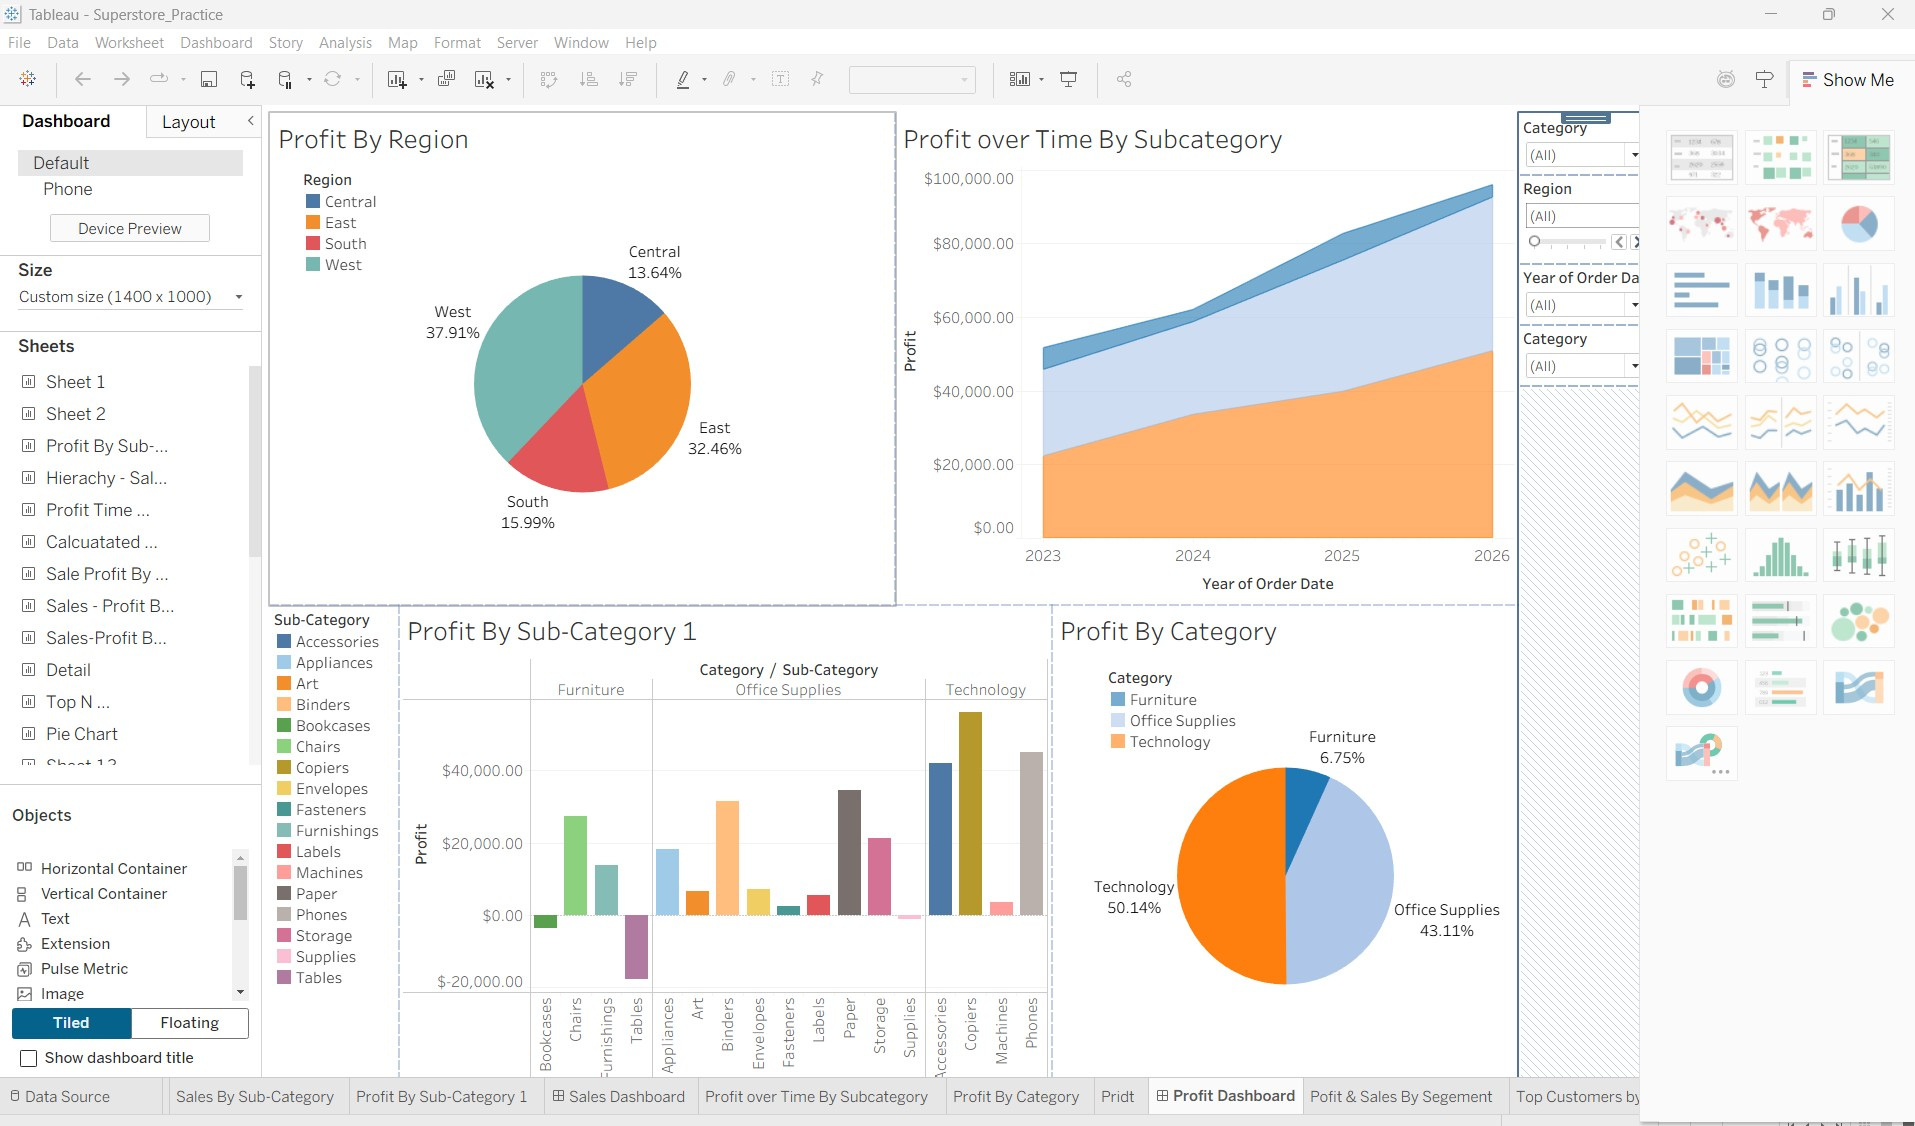

What the dashboard file says about the page in this screenshot:
{"tool":"tableau","page":{"name":"Profit Dashboard","canvas":[1400,1000],"ordinal":3},"visuals":[{"type":"worksheet","title":"Profit By Region","mark":"Pie","box":[8,8,624.5,492]},{"type":"worksheet","title":"Profit over Time By Subcategory","mark":"Area","rows":["Profit"],"cols":["Order Date"],"box":[632.5,8,624.5,492]},{"type":"filter","title":"Profit over Time By Subcategory","param":"[federated.0txyc2f08tnqly1gqmihz0zmljoq].[none:Category:nk]","box":[1257,8,135,61]},{"type":"legend","title":"Profit By Region","param":"[federated.0txyc2f08tnqly1gqmihz0zmljoq].[none:Region:nk]","box":[41,64,140,106]},{"type":"filter","title":"Profit By Sub-Category 1","param":"[federated.0txyc2f08tnqly1gqmihz0zmljoq].[none:Region:nk]","box":[1257,69,135,89]},{"type":"filter","title":"Profit By Sub-Category 1","param":"[federated.0txyc2f08tnqly1gqmihz0zmljoq].[yr:Order Date:ok]","box":[1257,158,135,61]},{"type":"filter","title":"Profit By Sub-Category 1","param":"[federated.0txyc2f08tnqly1gqmihz0zmljoq].[none:Category:nk]","box":[1257,219,135,61]},{"type":"legend","title":"Profit By Sub-Category 1","param":"[federated.0txyc2f08tnqly1gqmihz0zmljoq].[none:Sub-Category:nk]","box":[8,500,129,492]},{"type":"worksheet","title":"Profit By Sub-Category 1","mark":"Automatic","rows":["Profit"],"cols":["Category","Sub-Category"],"box":[137,500,653,492]},{"type":"worksheet","title":"Profit By Category","mark":"Pie","box":[790,500,467,492]},{"type":"legend","title":"Profit over Time By Subcategory","param":"[federated.0txyc2f08tnqly1gqmihz0zmljoq].[none:Category:nk]","box":[846,562,140,85]}]}

Visuals, with their boxes on the page's 1400x1000 design canvas (x1, y1, x2, y2). These are canvas units, not pixel positions in the 1915x1126 screenshot, which may show the page scaled, cropped or inside an application window:
"Profit By Region" worksheet (Pie marks): x1=8, y1=8, x2=632, y2=500
"Profit over Time By Subcategory" worksheet (Area marks): x1=632, y1=8, x2=1257, y2=500
"Profit over Time By Subcategory" filter: x1=1257, y1=8, x2=1392, y2=69
"Profit By Region" legend: x1=41, y1=64, x2=181, y2=170
"Profit By Sub-Category 1" filter: x1=1257, y1=69, x2=1392, y2=158
"Profit By Sub-Category 1" filter: x1=1257, y1=158, x2=1392, y2=219
"Profit By Sub-Category 1" filter: x1=1257, y1=219, x2=1392, y2=280
"Profit By Sub-Category 1" legend: x1=8, y1=500, x2=137, y2=992
"Profit By Sub-Category 1" worksheet: x1=137, y1=500, x2=790, y2=992
"Profit By Category" worksheet (Pie marks): x1=790, y1=500, x2=1257, y2=992
"Profit over Time By Subcategory" legend: x1=846, y1=562, x2=986, y2=647
